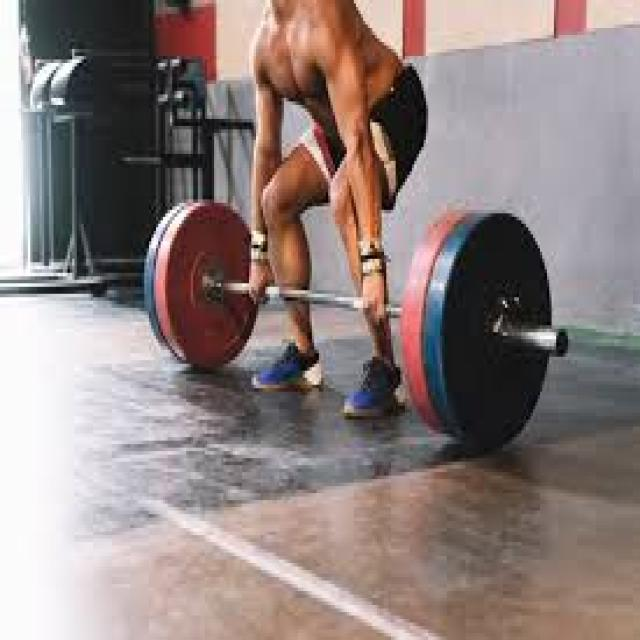barbell_plate_side: (142, 196, 266, 451), (514, 196, 638, 451)
